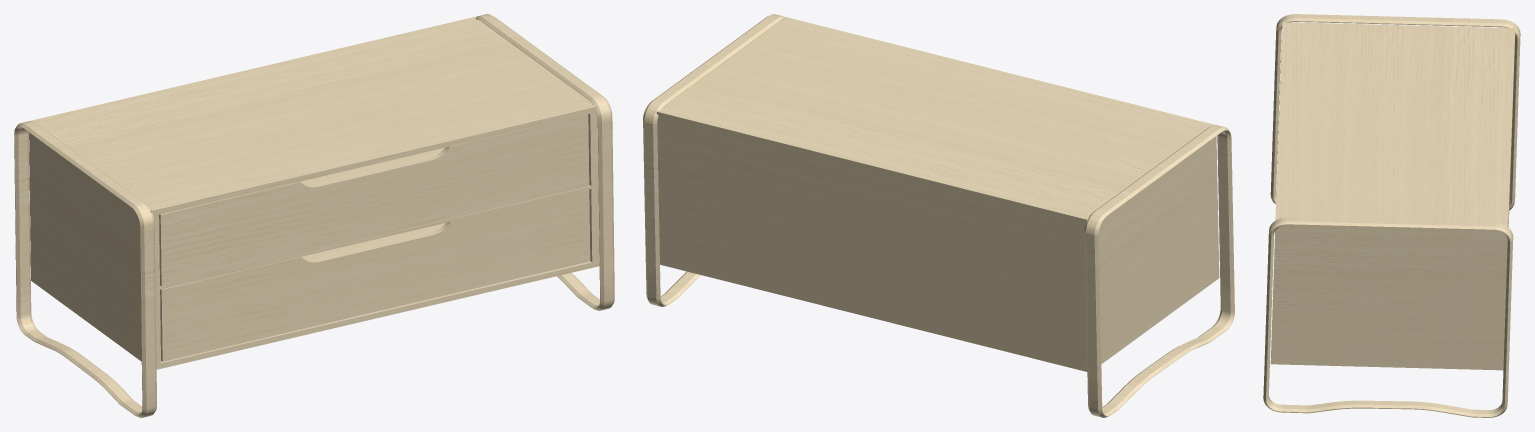
File: anes-chest-of-2-drawers-brich-veneer-3D.FBX
3 views of the same model, side by side, from view 1: azimuth 30°, elevation 25°; view 2: azimuth 150°, elevation 25°; view 3: azimuth 270°, elevation 25° (orthographic). The views are drawn at different scales.
Visible parts, largest first — view 1: Box01; view 2: Box01; view 3: Box01.
Boxes of the visible parts, bbox=[...] form: Box01: bbox=[14, 14, 614, 417]; Box01: bbox=[643, 14, 1234, 417]; Box01: bbox=[1263, 14, 1520, 417].
Bounding box in the file's own units: 1.31 × 0.672 × 0.5645.
1 material, 1 textured.
